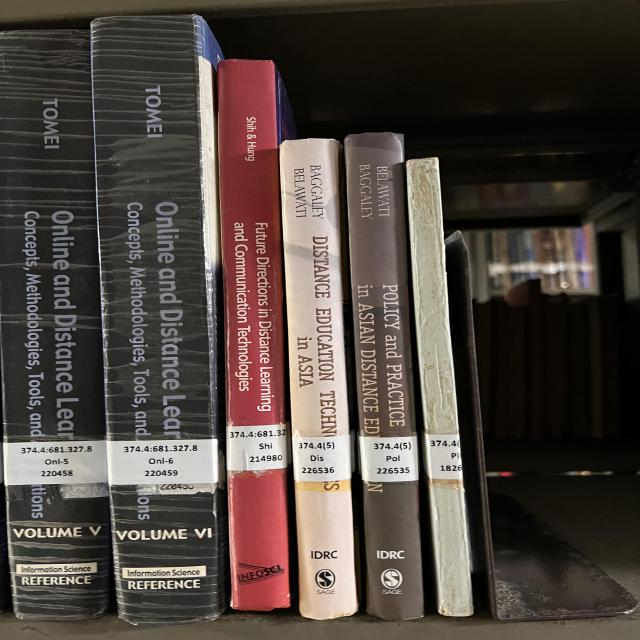Book: (92, 15, 227, 624), (0, 30, 112, 620), (218, 60, 293, 610), (345, 132, 423, 620), (280, 139, 358, 620), (407, 158, 473, 616)
Label: (107, 439, 218, 485), (3, 440, 107, 485), (227, 424, 288, 471), (358, 436, 418, 482), (292, 435, 352, 481), (425, 434, 463, 479)
